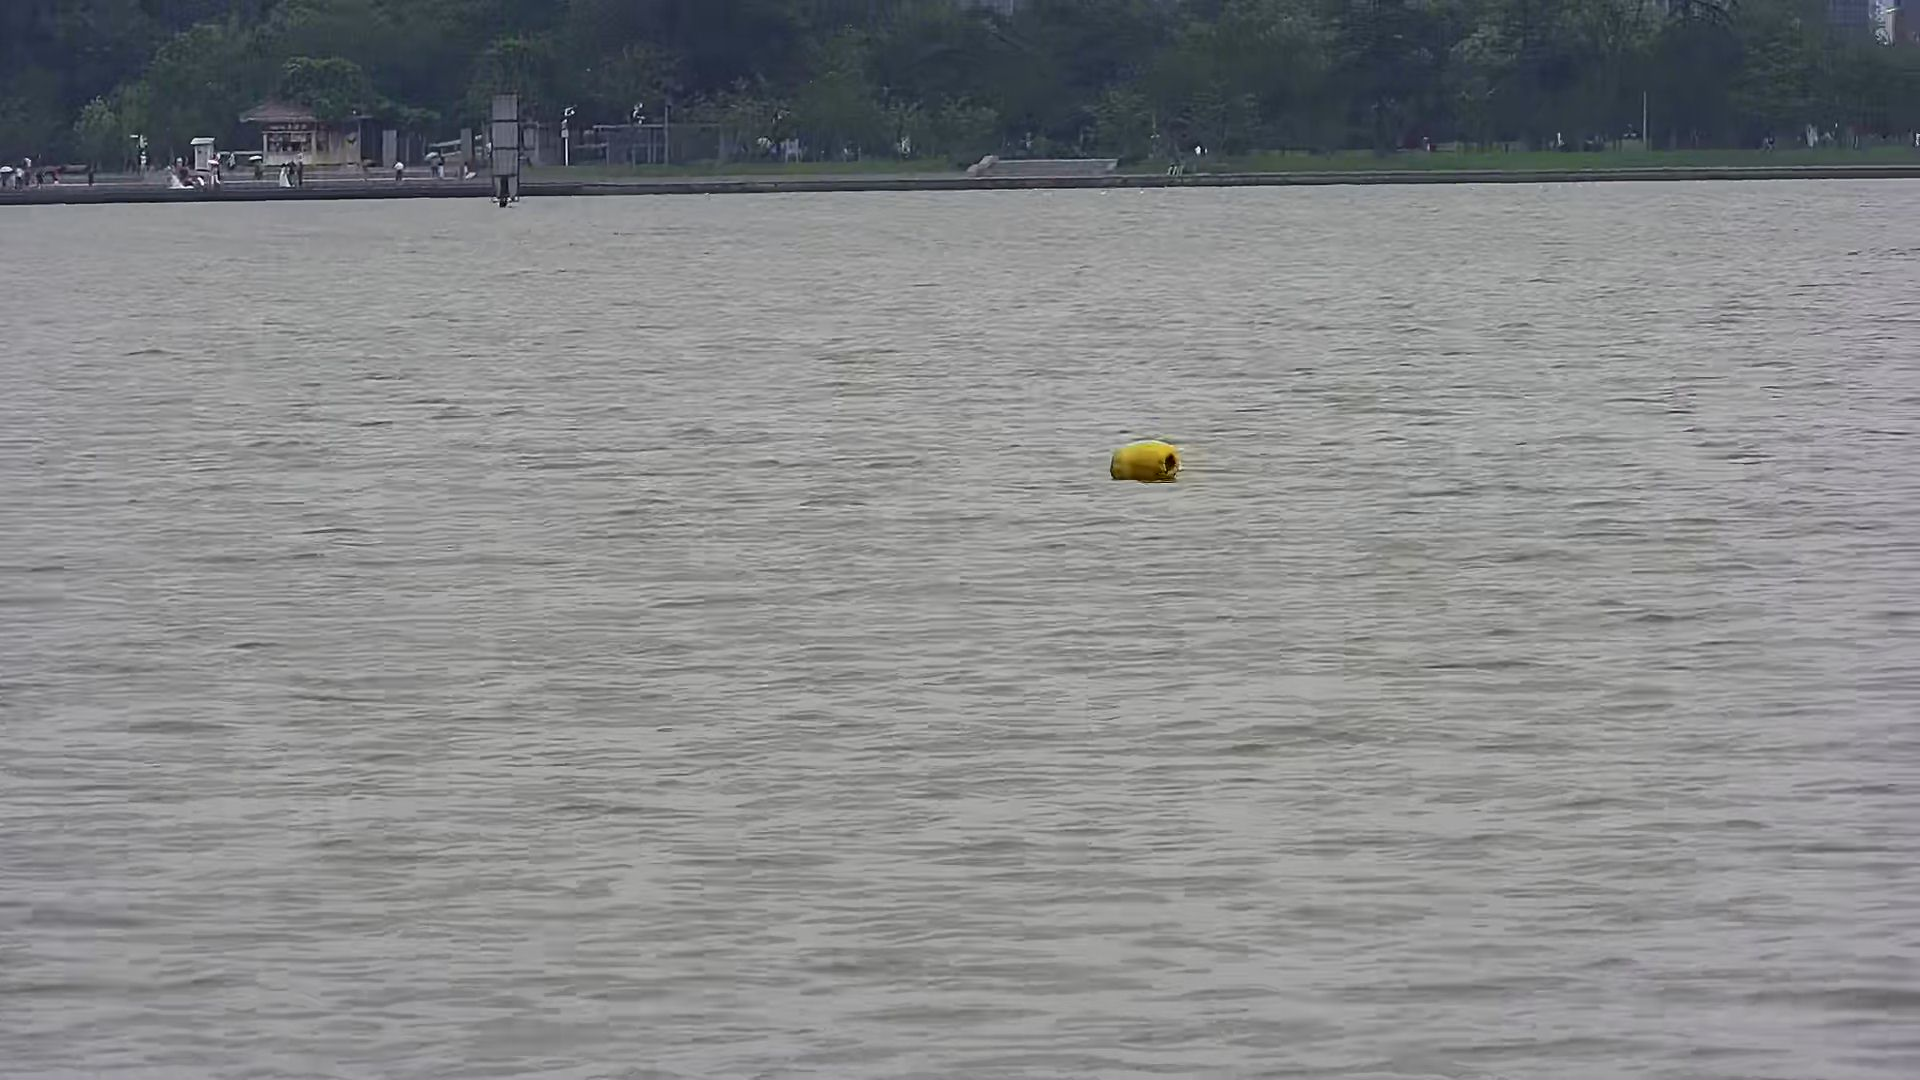rubbish: (1096, 434, 1189, 489)
